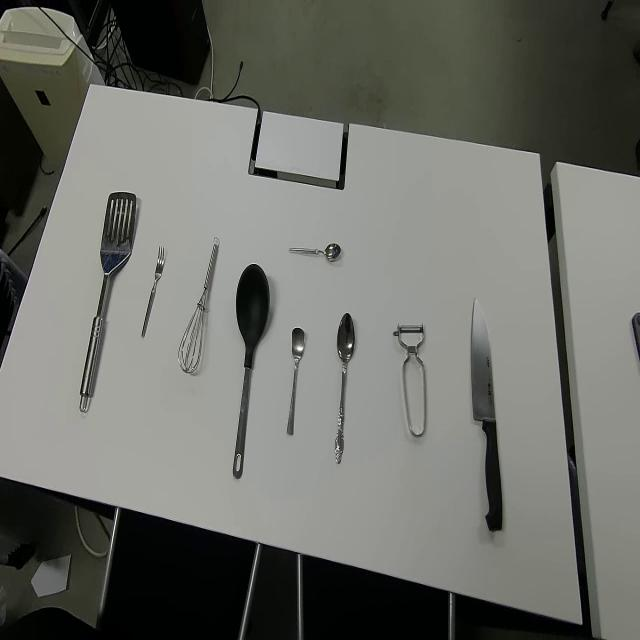Desert-Spoon: (334, 309, 355, 466)
Dinner-Fork: (140, 242, 165, 342)
Kitchen-Knife: (469, 296, 504, 532)
Peeler: (393, 320, 427, 438)
Serving-Spoon: (80, 190, 138, 413), (232, 261, 271, 482)
Tea-Spoon: (286, 326, 306, 437), (288, 240, 341, 263)
Whisk: (178, 235, 219, 374)
